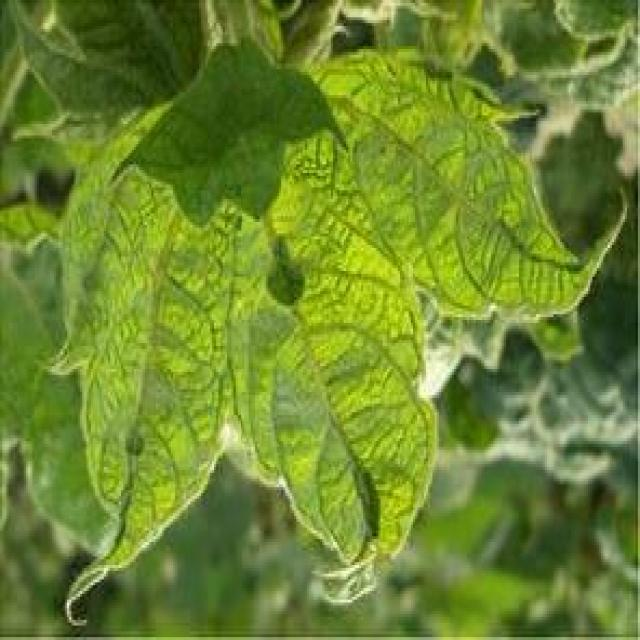Leaf Curl Virus: (158, 41, 355, 324)
